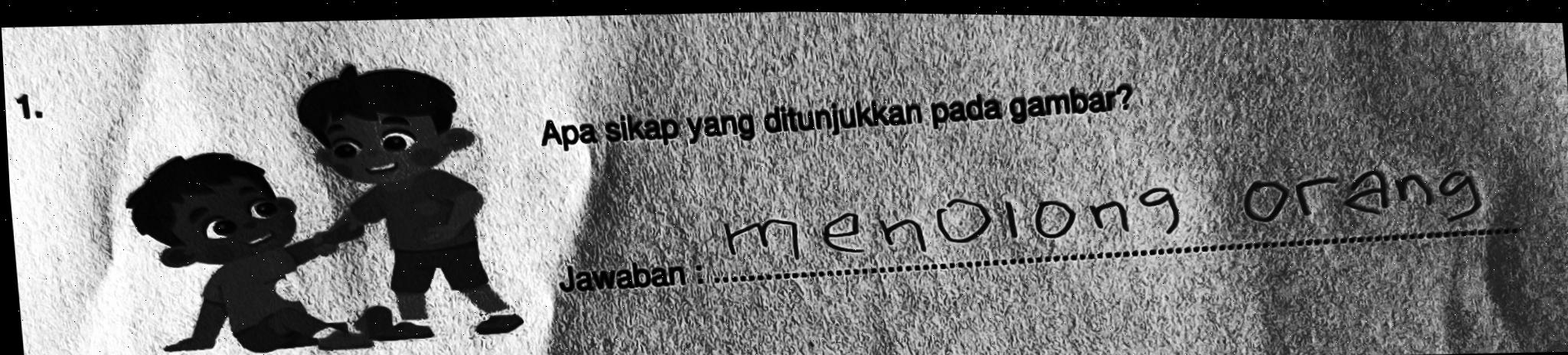jawaban: (718, 183, 1192, 262), (1239, 162, 1486, 227)
